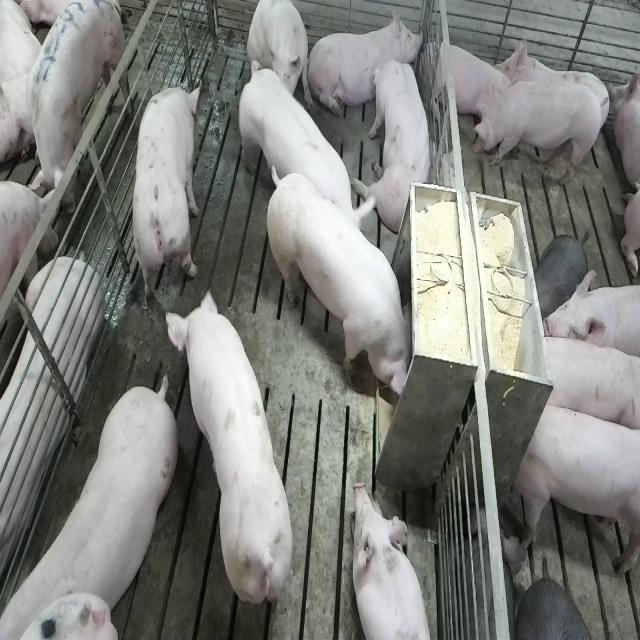Feeding: (270, 170, 422, 401)
Sitting: (362, 59, 435, 235), (247, 1, 309, 114)
Standing: (6, 373, 182, 634), (169, 284, 299, 616), (236, 61, 372, 256), (513, 397, 639, 580), (22, 0, 124, 209), (130, 81, 202, 307), (472, 81, 610, 188), (533, 330, 637, 435), (541, 275, 640, 370)
Sternal_lying: (0, 172, 102, 578), (351, 482, 432, 640), (314, 5, 421, 115), (427, 35, 510, 132)
